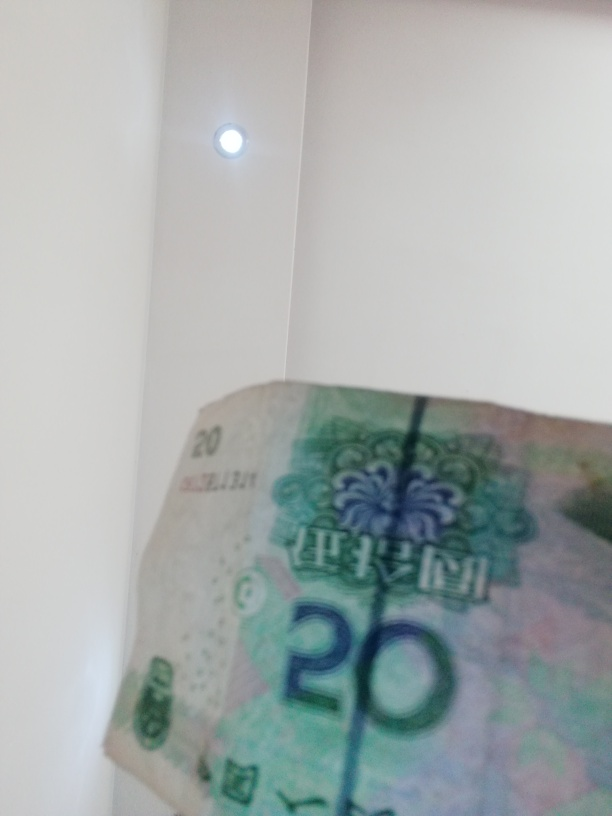rmb: (115, 377, 609, 816)
